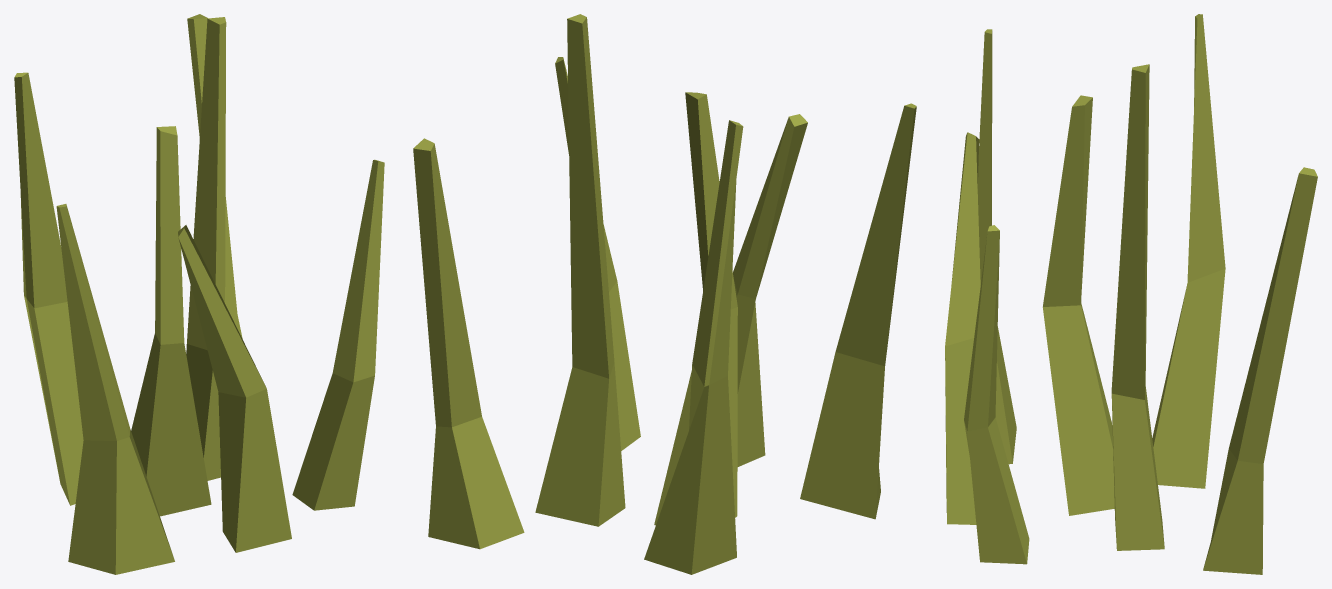
Rendered from enchantedforest_grass_1.fbx.
The picture shows the model from 3 angles, left to right: view 1: azimuth 30°, elevation 25°; view 2: azimuth 150°, elevation 25°; view 3: azimuth 270°, elevation 25°; orthographic projection. The views are drawn at different scales.
Visible parts, largest first — view 1: Plane.003; view 2: Plane.003; view 3: Plane.003.
Boxes of the visible parts, x1=… form: Plane.003: x1=14, y1=14, x2=384, y2=574; Plane.003: x1=413, y1=14, x2=916, y2=574; Plane.003: x1=945, y1=14, x2=1317, y2=574.
Size of the model in its own units: 0.6022 by 0.8 by 0.5714.
